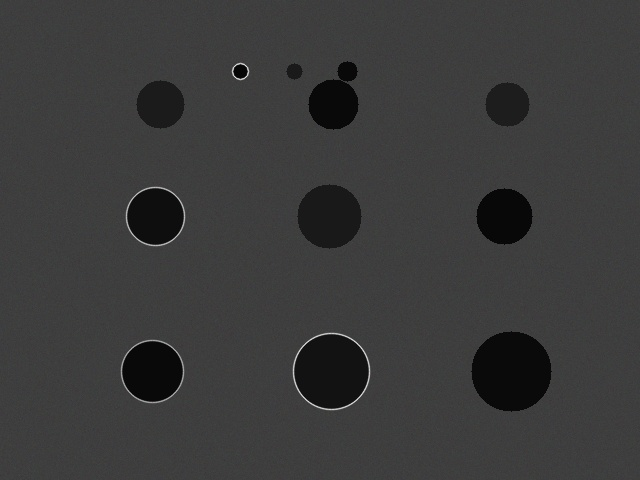hole: (471, 331, 551, 411), (293, 333, 369, 409), (297, 184, 361, 248), (121, 340, 183, 402), (126, 187, 184, 245), (476, 188, 532, 244), (308, 79, 358, 129), (136, 80, 184, 128), (485, 82, 529, 126), (337, 61, 357, 81), (232, 63, 248, 79), (286, 63, 302, 79)
